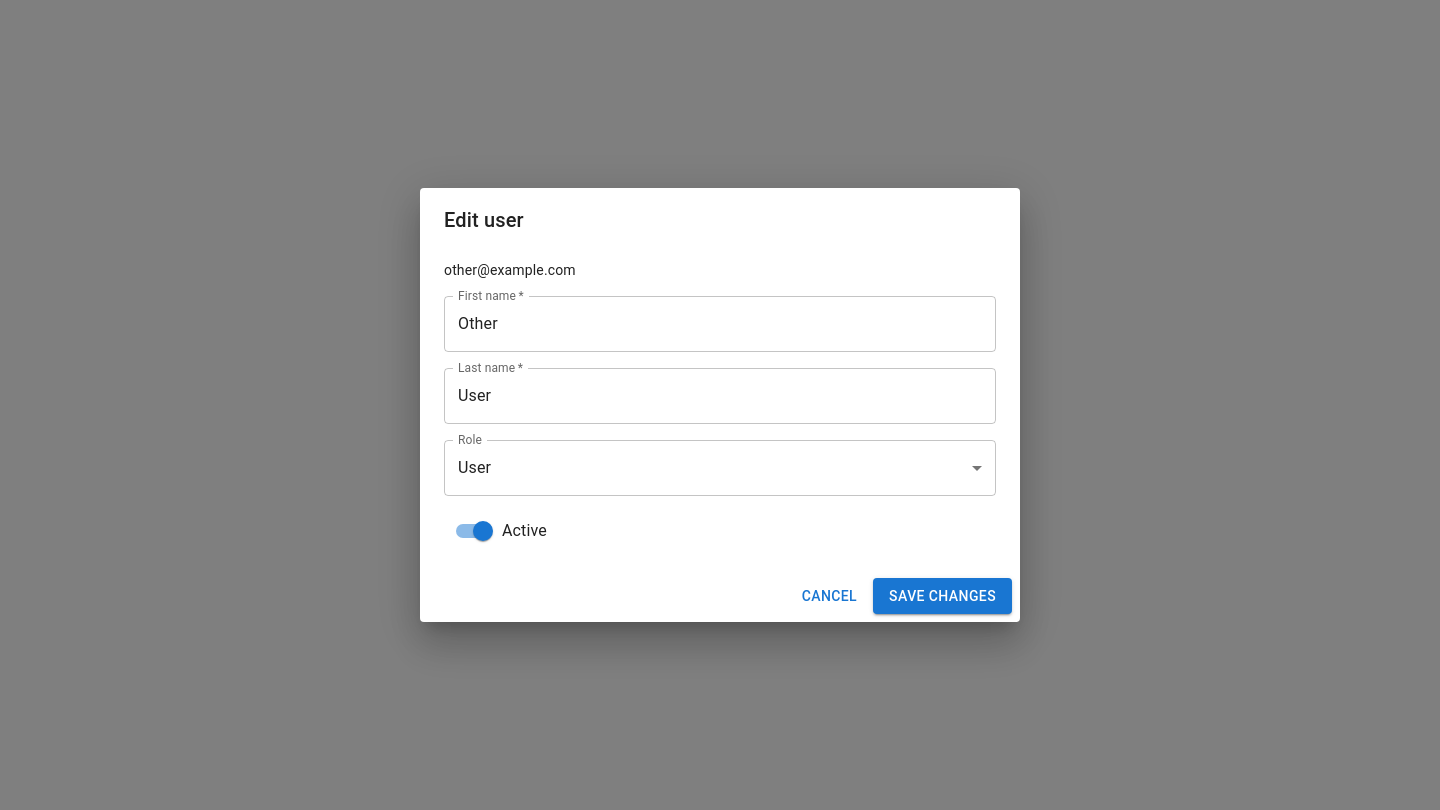
Scenario: UserEditDialog › renders user fields and validates required names
This screenshot has width=1440, height=810.
Check: the heading "Edit user" is shown, box [444,208,524,232]
Clear the field labelled "First name *" at (720, 324), box [444,296,996,352]
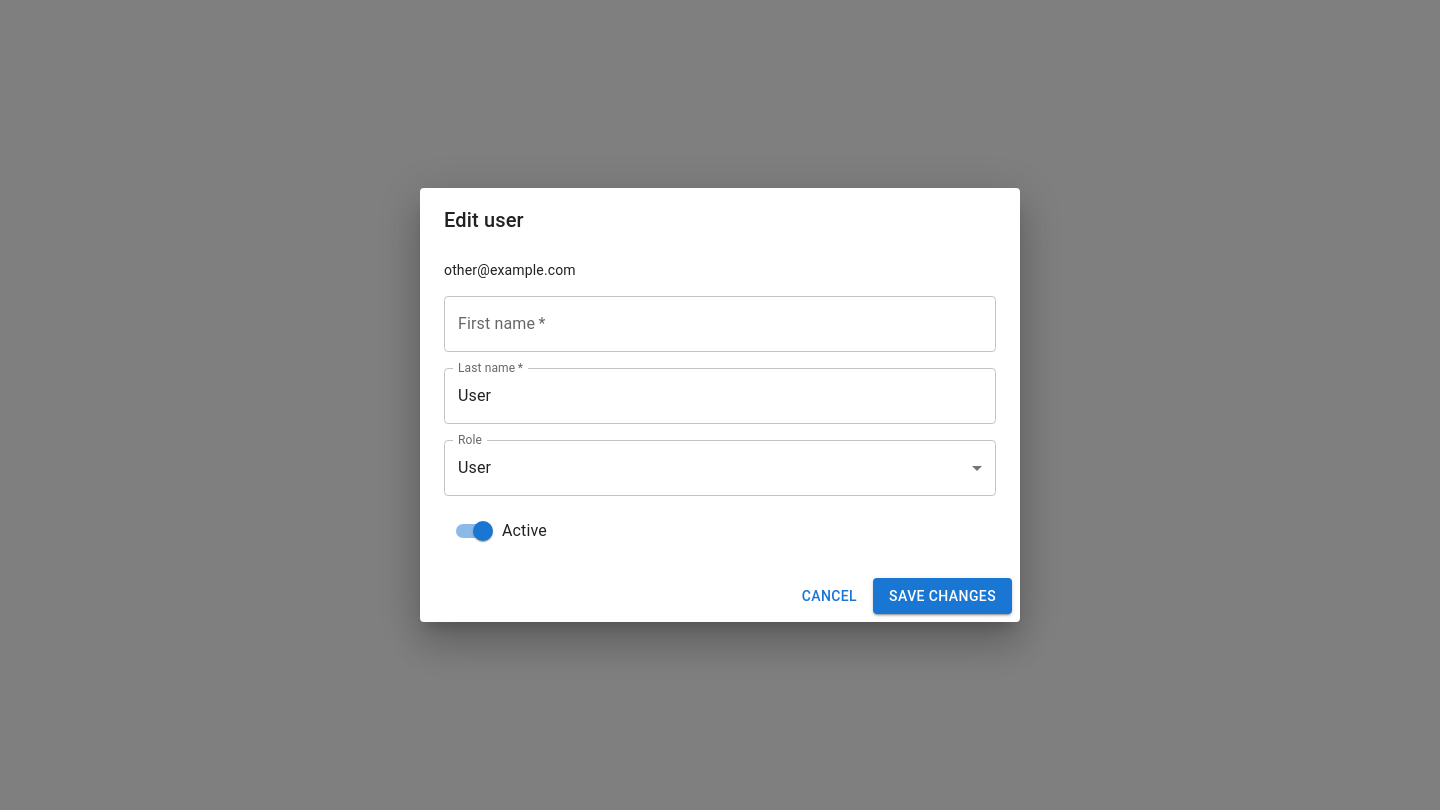
Click the button "Save changes" at (943, 596), box [873,578,1012,614]
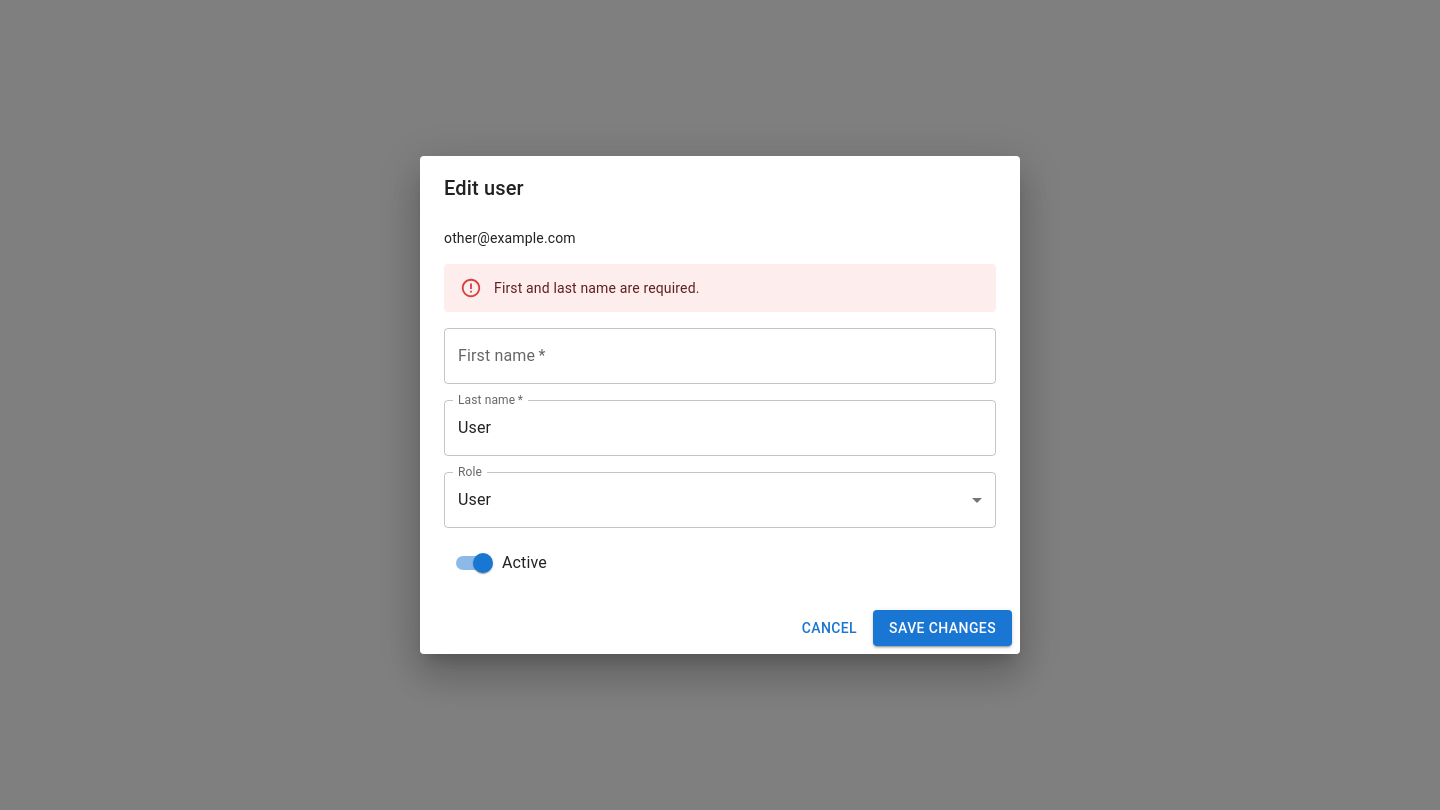
Check: the text "First and last name are required." is shown, box [494,280,700,296]
